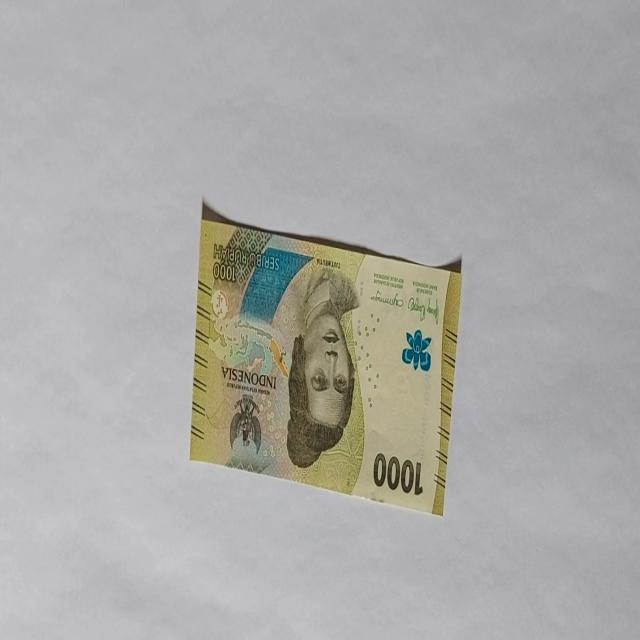seribu rupiah kertas: (188, 202, 462, 518)
